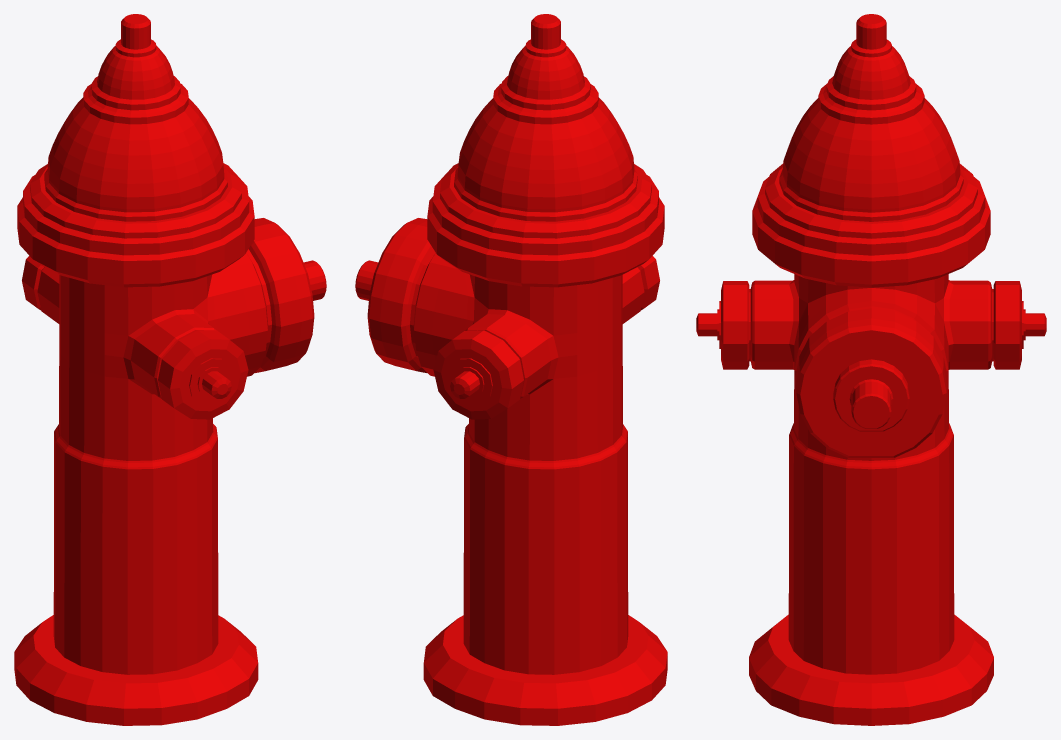
File: Low_FireHydrant.fbx
3 renders of one model, left to right at view 1: azimuth 30°, elevation 25°; view 2: azimuth 150°, elevation 25°; view 3: azimuth 270°, elevation 25°, orthographic.
Parts seen in each view (by area): view 1: polySurface42; view 2: polySurface42; view 3: polySurface42.
Part boxes in pixels (box(x1,y1,x2,y2)): polySurface42: box(14, 14, 326, 725); polySurface42: box(355, 14, 667, 725); polySurface42: box(696, 14, 1046, 725).
Size of the model in its own units: 4.3 by 9.37 by 4.54.
